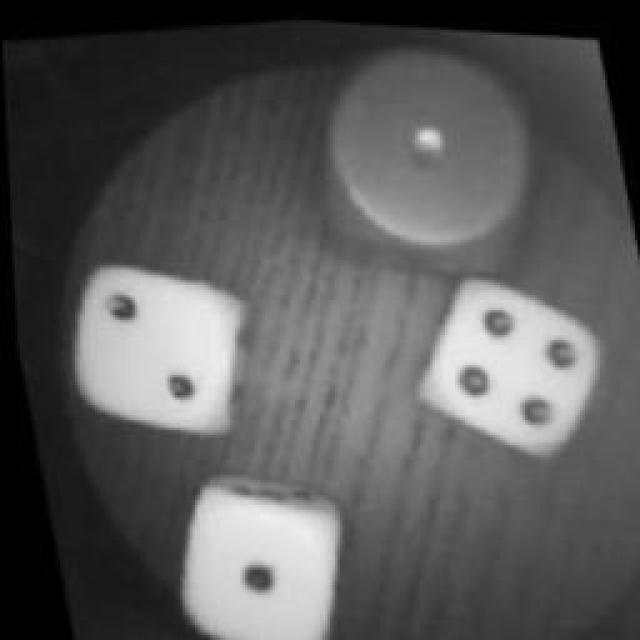dice_1: (294, 15, 554, 293), (149, 452, 371, 640)
dice_2: (44, 236, 268, 466)
dice_4: (400, 244, 618, 474)
